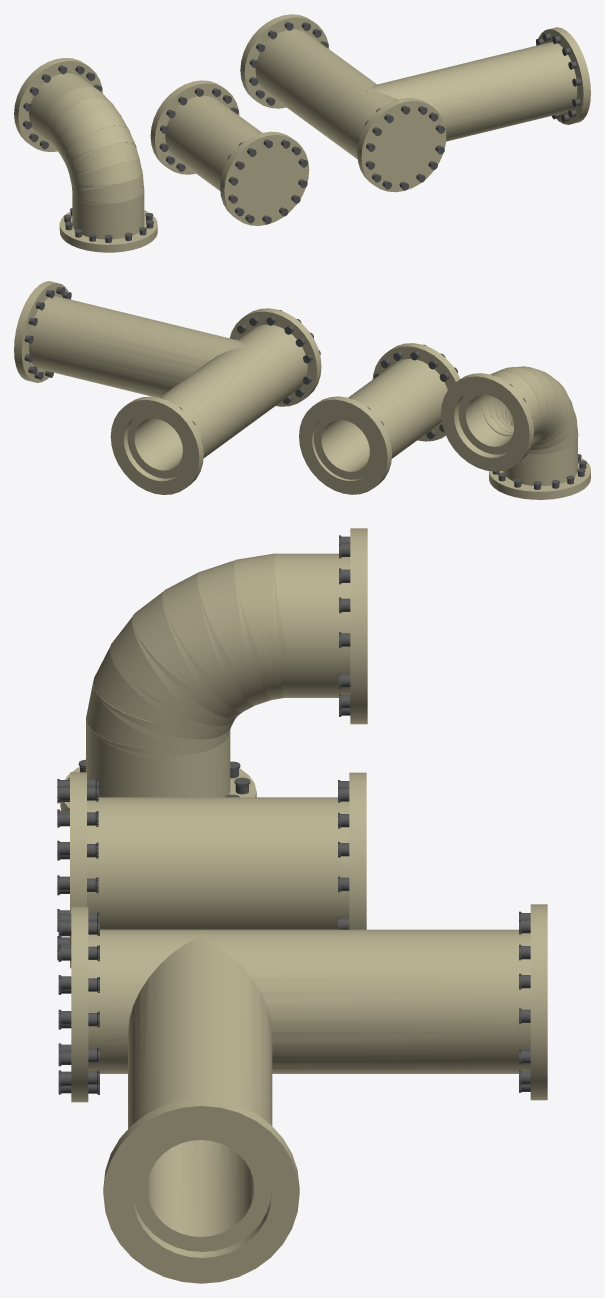
The model's file is pipes3.fbx.
3 renders of one model, top to bottom at view 1: azimuth 30°, elevation 25°; view 2: azimuth 150°, elevation 25°; view 3: azimuth 270°, elevation 25°, orthographic. The views are drawn at different scales.
Visible parts, largest first — view 1: Цилиндр.007, Цилиндр.049, Цилиндр.036, Цилиндр.033, Цилиндр.004, Цилиндр.001, Цилиндр.039, Цилиндр.041, Цилиндр.005, Цилиндр.015, Цилиндр.044, Цилиндр.050 (+8 smaller); view 2: Цилиндр.007, Цилиндр.036, Цилиндр.001, Цилиндр.049, Цилиндр.041, Цилиндр.039, Цилиндр.005, Цилиндр.033, Цилиндр.051, Цилиндр.015, Цилиндр.044, Цилиндр.004 (+5 smaller); view 3: Цилиндр.036, Цилиндр.049, Цилиндр.007, Цилиндр.001, Цилиндр.015, Цилиндр.051, Цилиндр.041, Цилиндр.039, Цилиндр.033, Цилиндр.005, Цилиндр.050, Цилиндр.004 (+5 smaller).
Boxes of the visible parts, x1,y1,x2,y2 form: Цилиндр.007: [366, 42, 577, 141]; Цилиндр.049: [38, 80, 144, 221]; Цилиндр.036: [255, 29, 396, 159]; Цилиндр.033: [357, 98, 446, 192]; Цилиндр.004: [220, 131, 309, 225]; Цилиндр.001: [165, 95, 262, 190]; Цилиндр.039: [240, 14, 328, 108]; Цилиндр.041: [14, 58, 102, 151]; Цилиндр.005: [150, 80, 239, 174]; Цилиндр.015: [536, 27, 590, 124]; Цилиндр.044: [59, 210, 157, 252]; Цилиндр.050: [72, 207, 144, 239]; Цилиндр.007: [29, 295, 249, 397]; Цилиндр.036: [127, 324, 307, 478]; Цилиндр.001: [314, 359, 447, 479]; Цилиндр.049: [475, 366, 578, 466]; Цилиндр.041: [441, 373, 533, 471]; Цилиндр.039: [110, 396, 203, 494]; Цилиндр.005: [299, 396, 391, 494]; Цилиндр.033: [230, 308, 321, 406]; Цилиндр.051: [458, 381, 531, 454]; Цилиндр.015: [14, 281, 71, 382]; Цилиндр.044: [489, 457, 590, 499]; Цилиндр.004: [372, 343, 459, 441]; Цилиндр.036: [88, 929, 530, 1073]; Цилиндр.049: [86, 553, 313, 785]; Цилиндр.007: [128, 934, 272, 1251]; Цилиндр.001: [87, 797, 349, 929]; Цилиндр.015: [103, 1098, 299, 1283]; Цилиндр.051: [310, 553, 350, 697]; Цилиндр.041: [350, 528, 367, 724]; Цилиндр.039: [530, 904, 547, 1100]; Цилиндр.033: [71, 906, 88, 1102]; Цилиндр.005: [349, 772, 366, 929]; Цилиндр.050: [86, 754, 230, 797]; Цилиндр.004: [70, 772, 86, 968].
Bounding box in the file's own units: 1157 × 313 × 481.
